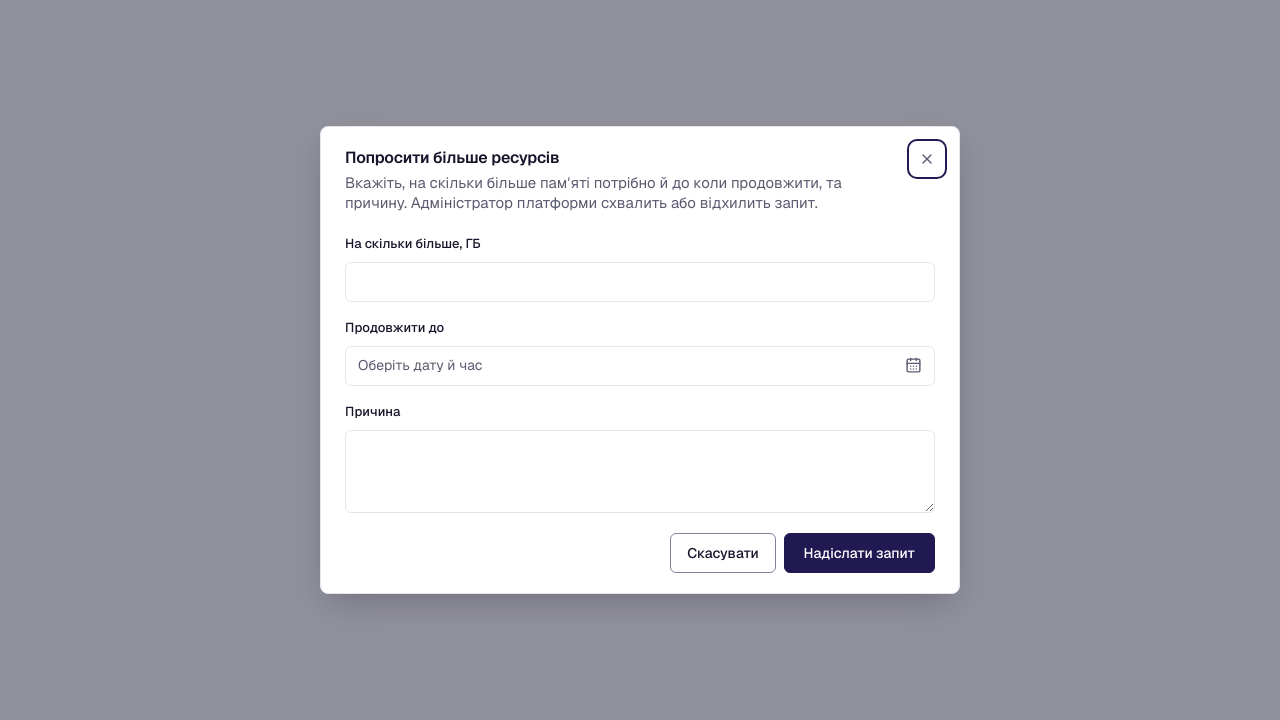
it: ChangeRequestDialog › shows the total before and after
The image size is (1280, 720).
Type "2" into the field labelled "На скільки більше, ГБ".
click(640, 282); type("2")  # box top-left (345, 262), bottom-right (935, 302)
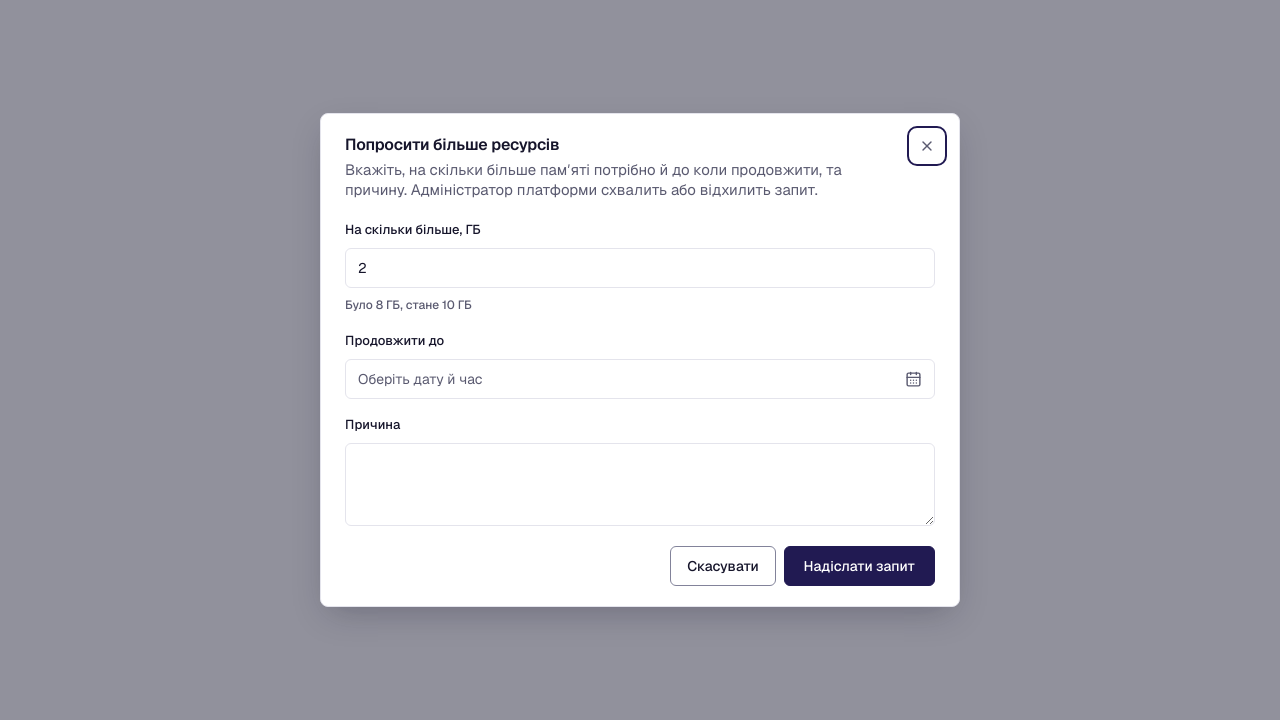
Now the text "Було 8 ГБ, стане 10 ГБ" is shown, box top-left (345, 297), bottom-right (472, 313)
